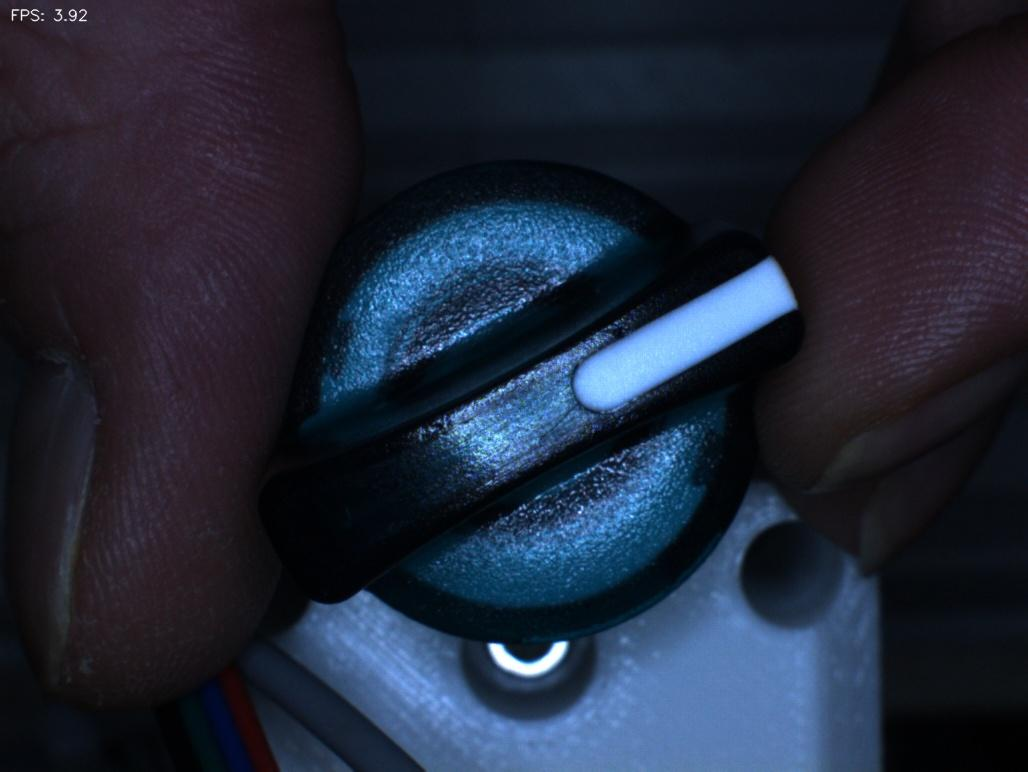Choc: (586, 282, 659, 368)
